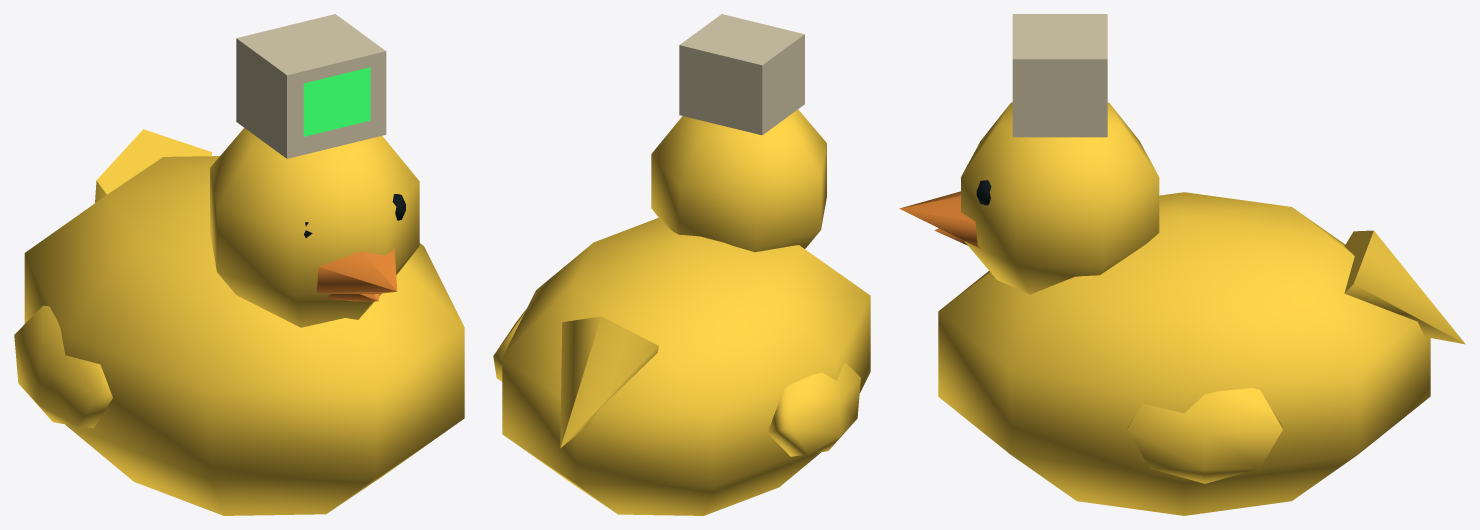
File: duck-crt.glb
3 views of the same model, side by side, from view 1: azimuth 30°, elevation 25°; view 2: azimuth 150°, elevation 25°; view 3: azimuth 270°, elevation 25° (orthographic). The views are drawn at different scales.
Visible parts, largest first — view 1: CouncilDuck_crt; view 2: CouncilDuck_crt; view 3: CouncilDuck_crt.
Boxes of the visible parts, bbox=[...] form: CouncilDuck_crt: bbox=[14, 14, 464, 515]; CouncilDuck_crt: bbox=[493, 14, 870, 515]; CouncilDuck_crt: bbox=[899, 14, 1465, 515].
Size of the model in its own units: 2.46 by 2.91 by 3.29.
